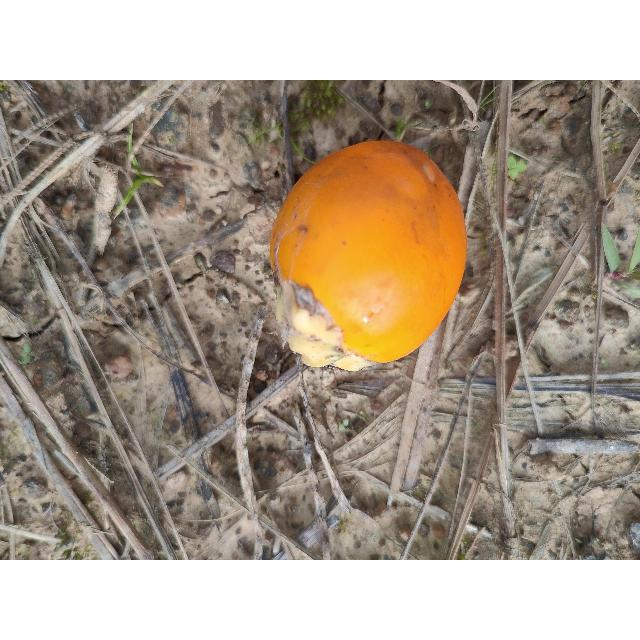good: (267, 140, 468, 368)
